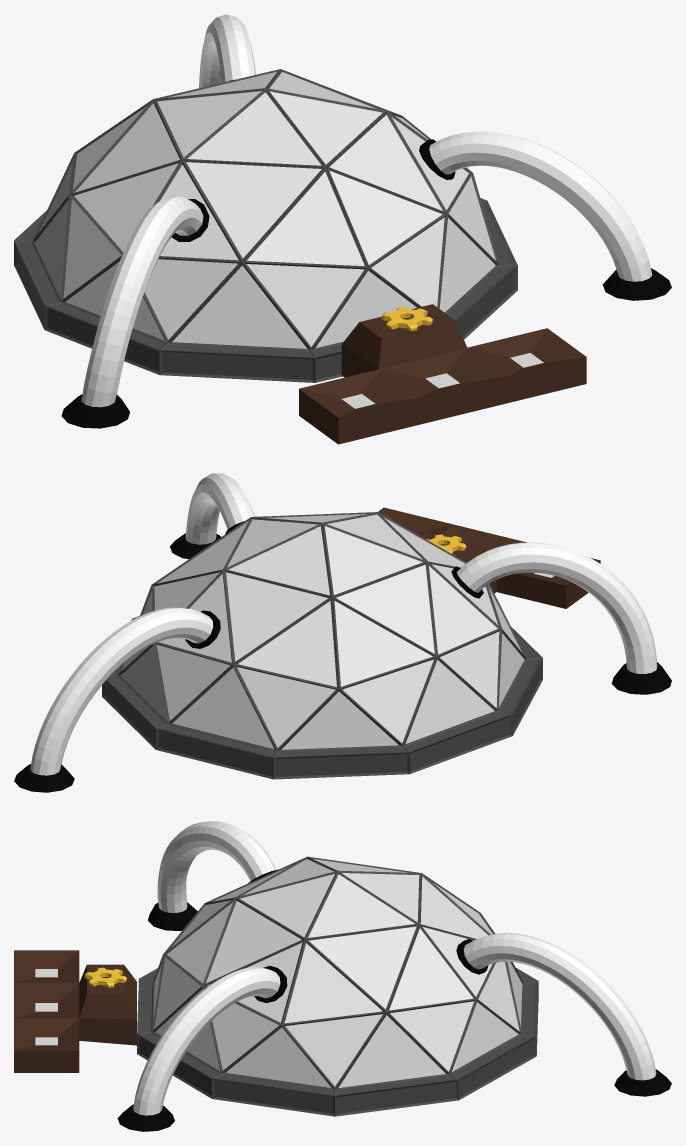
The model's file is dome.fbx.
3 views of the same model, one above another, from view 1: azimuth 30°, elevation 25°; view 2: azimuth 150°, elevation 25°; view 3: azimuth 270°, elevation 25° (orthographic). The views are drawn at different scales.
Visible parts, largest first — view 1: DomeGeneral, GearsMachine, arm2, arm, arm3, engren; view 2: DomeGeneral, arm, arm3, GearsMachine, arm2; view 3: DomeGeneral, GearsMachine, arm3, arm2, arm, engren.
Part boxes in pixels (x1=…): DomeGeneral: x1=14, y1=69, x2=517, y2=382; GearsMachine: x1=299, y1=304, x2=586, y2=444; arm2: x1=419, y1=131, x2=671, y2=300; arm: x1=61, y1=196, x2=209, y2=428; arm3: x1=199, y1=14, x2=255, y2=88; engren: x1=381, y1=307, x2=432, y2=331; DomeGeneral: x1=102, y1=512, x2=542, y2=779; arm: x1=451, y1=542, x2=671, y2=694; arm3: x1=14, y1=607, x2=220, y2=792; GearsMachine: x1=378, y1=507, x2=600, y2=608; arm2: x1=170, y1=473, x2=254, y2=559; DomeGeneral: x1=137, y1=856, x2=538, y2=1116; GearsMachine: x1=14, y1=950, x2=136, y2=1072; arm3: x1=456, y1=933, x2=671, y2=1096; arm2: x1=117, y1=966, x2=287, y2=1131; arm: x1=148, y1=821, x2=278, y2=931; engren: x1=84, y1=967, x2=126, y2=987.
Bounding box in the file's own units: 461 × 145 × 543.
